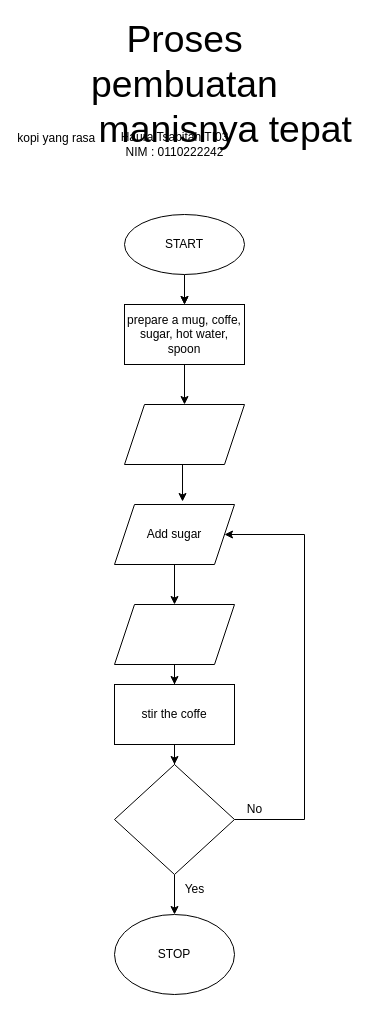
Image size: 369x1012. Some labels were removed from this diagram. The shapes that lost their labels are listed below. From the top down, each one's box as (x1, y1, x2, y2) in pixels, then its label:
(124, 404, 244, 464): Add coffe
(114, 604, 234, 664): Add hot water,
(114, 764, 234, 874): sweet enough or not
